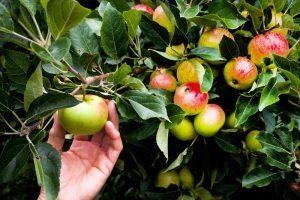apple: (59, 95, 108, 136), (247, 31, 287, 63), (222, 56, 257, 90), (172, 80, 207, 114), (193, 102, 225, 138), (169, 114, 195, 140), (245, 129, 261, 151)
